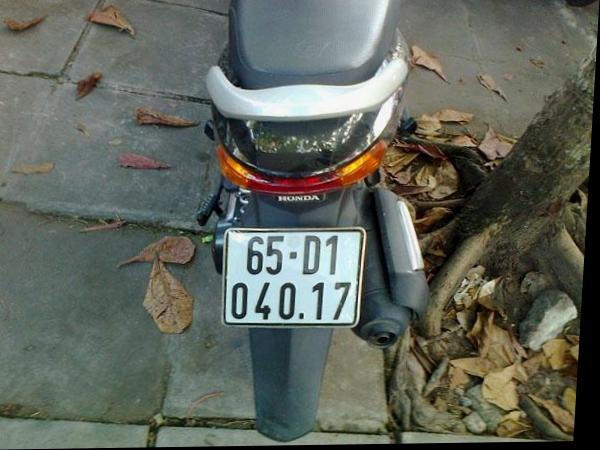License_Plate: (222, 225, 367, 327)
